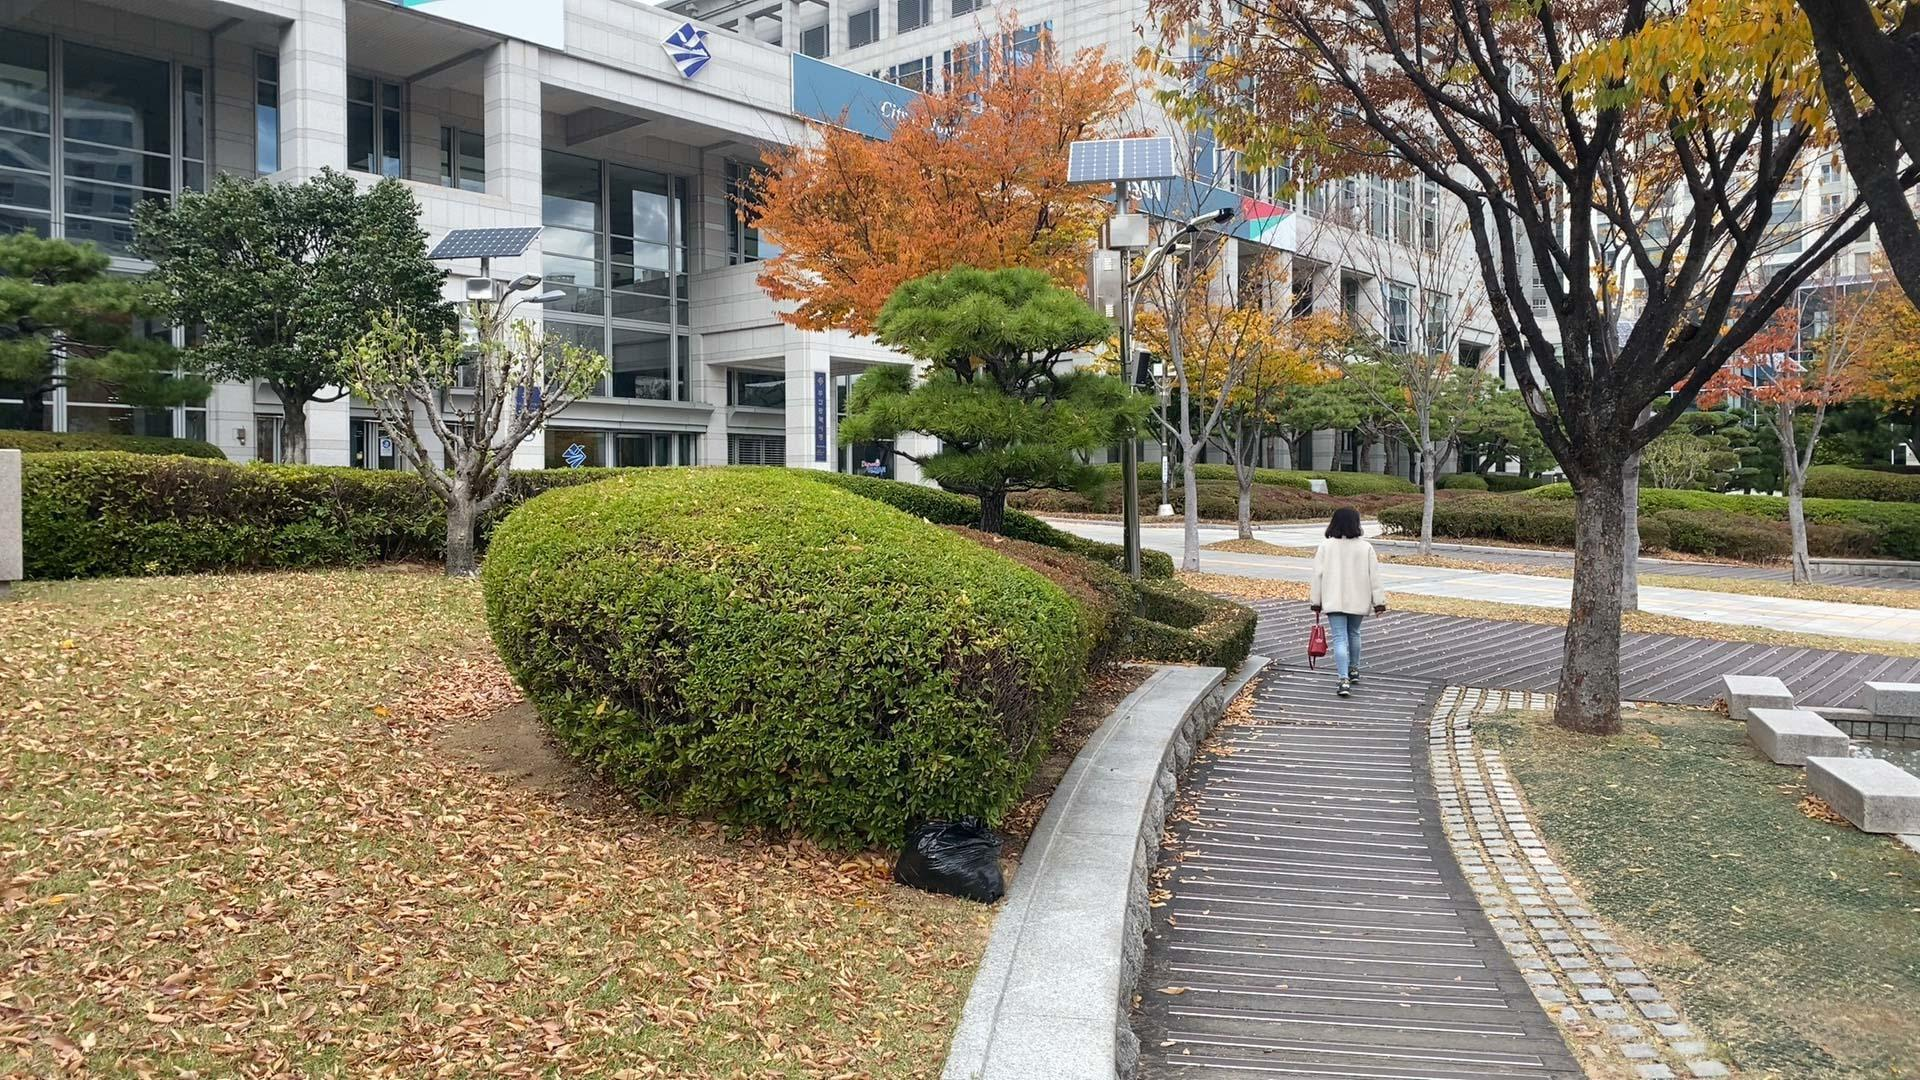black_bag: (894, 808, 1005, 905)
